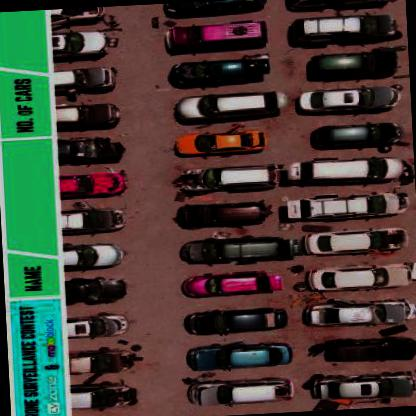car: (181, 230, 296, 266), (306, 366, 415, 402), (172, 89, 285, 123), (304, 294, 415, 328), (185, 374, 295, 407), (186, 338, 292, 371), (288, 154, 404, 184), (175, 162, 282, 194), (305, 259, 413, 290), (292, 11, 396, 43), (288, 192, 408, 219), (184, 303, 286, 334), (170, 54, 268, 86), (302, 226, 406, 256), (182, 268, 284, 298), (296, 84, 401, 113), (167, 19, 268, 49), (310, 120, 402, 150), (172, 198, 266, 227), (321, 335, 415, 364), (308, 48, 398, 78), (175, 128, 269, 156), (67, 346, 134, 374), (60, 170, 127, 198), (163, 0, 271, 17), (56, 100, 122, 127), (63, 242, 124, 271), (61, 206, 126, 233), (64, 276, 126, 304), (66, 312, 128, 340), (52, 64, 116, 91), (58, 136, 124, 162), (52, 29, 110, 58), (70, 384, 137, 407), (283, 0, 399, 12), (50, 6, 107, 23)
